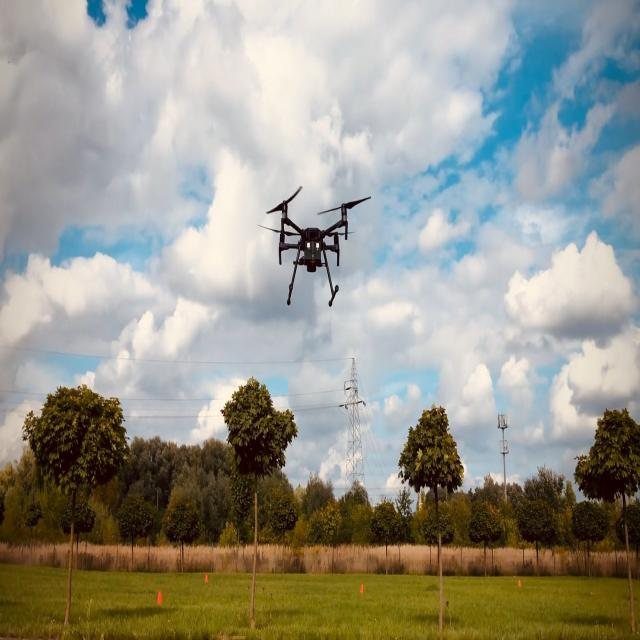drone: (257, 185, 371, 307)
